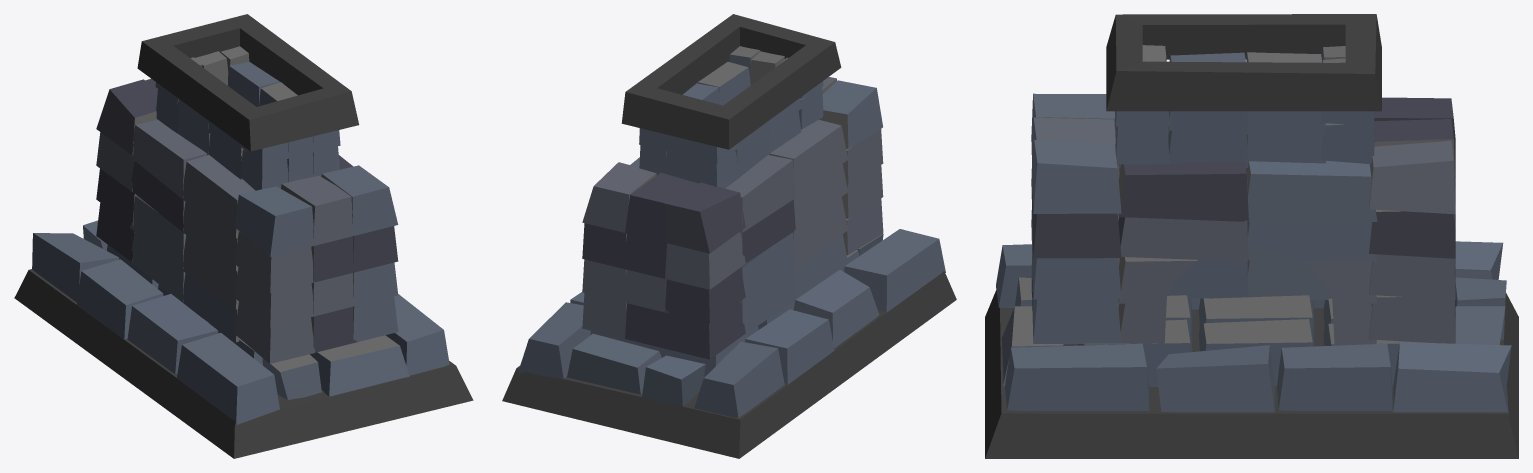
The model's file is Low_Poly_Furnace.fbx.
The picture shows the model from 3 angles, left to right: view 1: azimuth 30°, elevation 25°; view 2: azimuth 150°, elevation 25°; view 3: azimuth 270°, elevation 25°; orthographic projection. The views are drawn at different scales.
Parts seen in each view (by area): view 1: Furnace; view 2: Furnace; view 3: Furnace.
Boxes of the visible parts, x1,y1,x2,y2 form: Furnace: (14, 14, 473, 458); Furnace: (502, 14, 956, 458); Furnace: (985, 14, 1518, 458).
Bounding box in the file's own units: 535 × 610 × 849.
